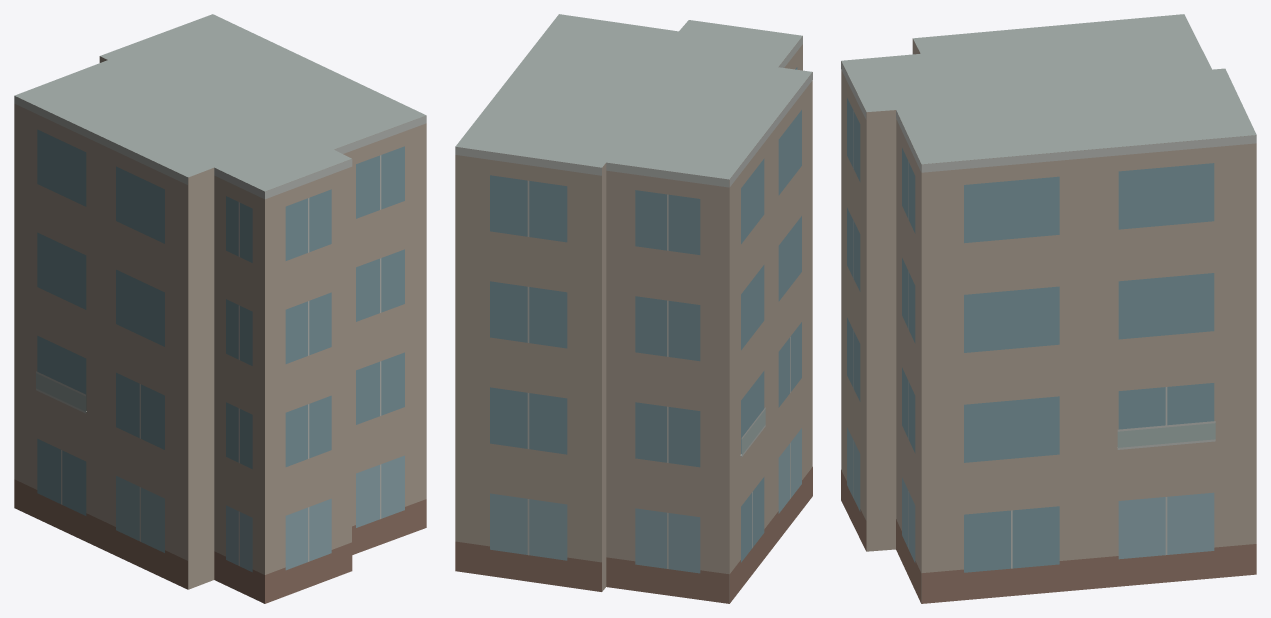
File: survey-upis-32517302.glb
The picture shows the model from 3 angles, left to right: view 1: azimuth 30°, elevation 25°; view 2: azimuth 150°, elevation 25°; view 3: azimuth 270°, elevation 25°; orthographic projection. The views are drawn at different scales.
Parts seen in each view (by area): view 1: survey-upis-32517302.tmp; view 2: survey-upis-32517302.tmp; view 3: survey-upis-32517302.tmp.
Part boxes in pixels (bbox=[...]): survey-upis-32517302.tmp: bbox=[14, 14, 426, 603]; survey-upis-32517302.tmp: bbox=[455, 14, 812, 603]; survey-upis-32517302.tmp: bbox=[841, 14, 1256, 603].
Bounding box in the file's own units: 9.4 × 12.8 × 10.98.
